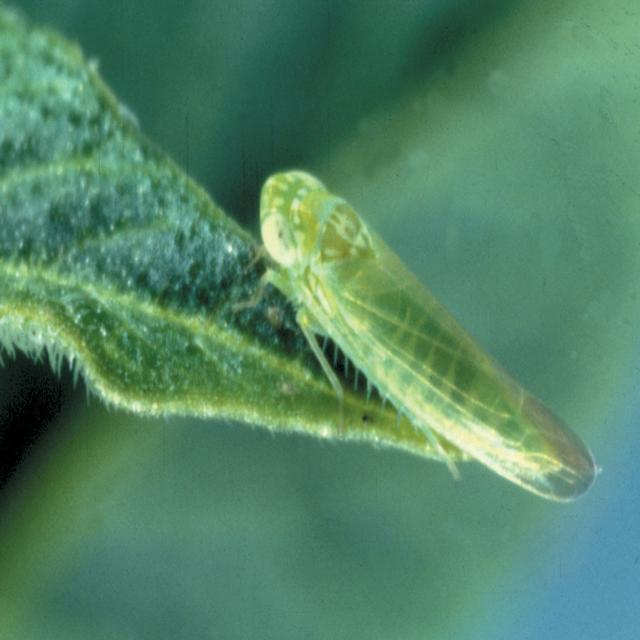Yechan: (235, 163, 602, 510)
